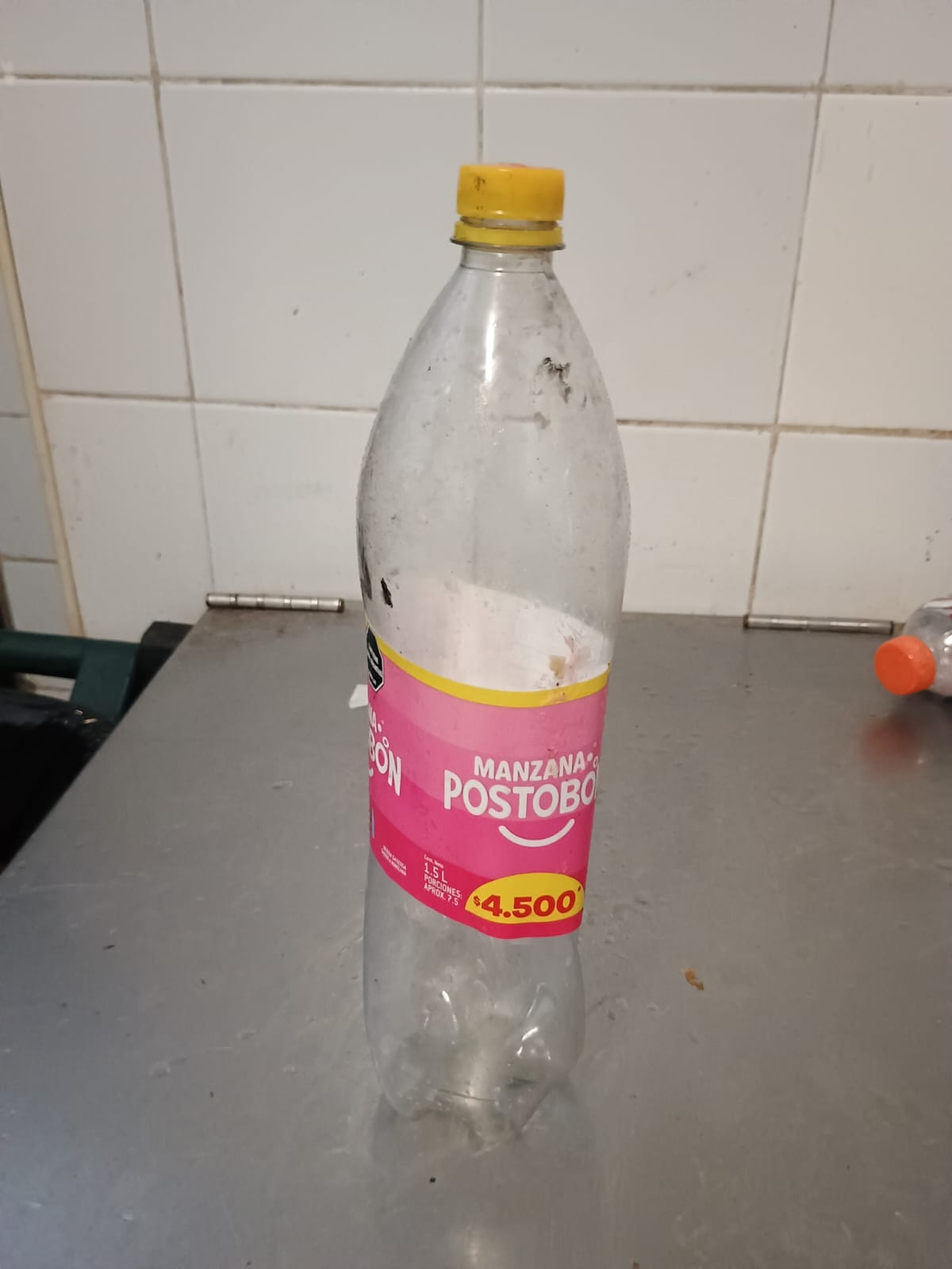Plastico: (354, 161, 634, 1149)
